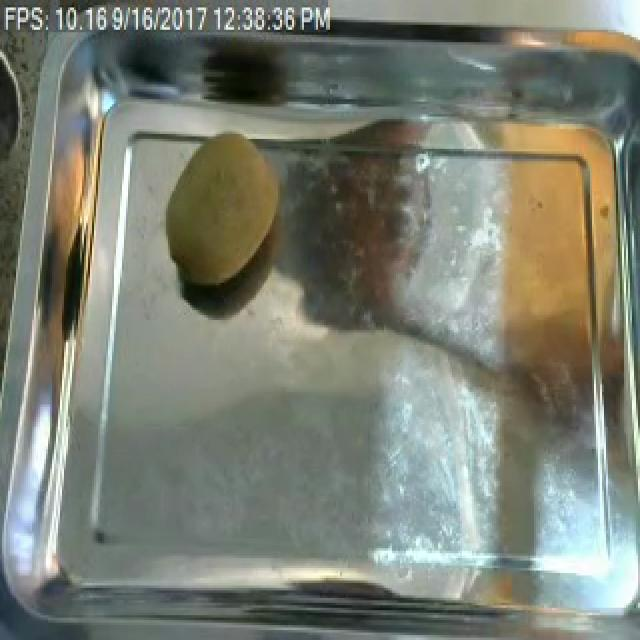Fruit: (158, 126, 292, 298)
